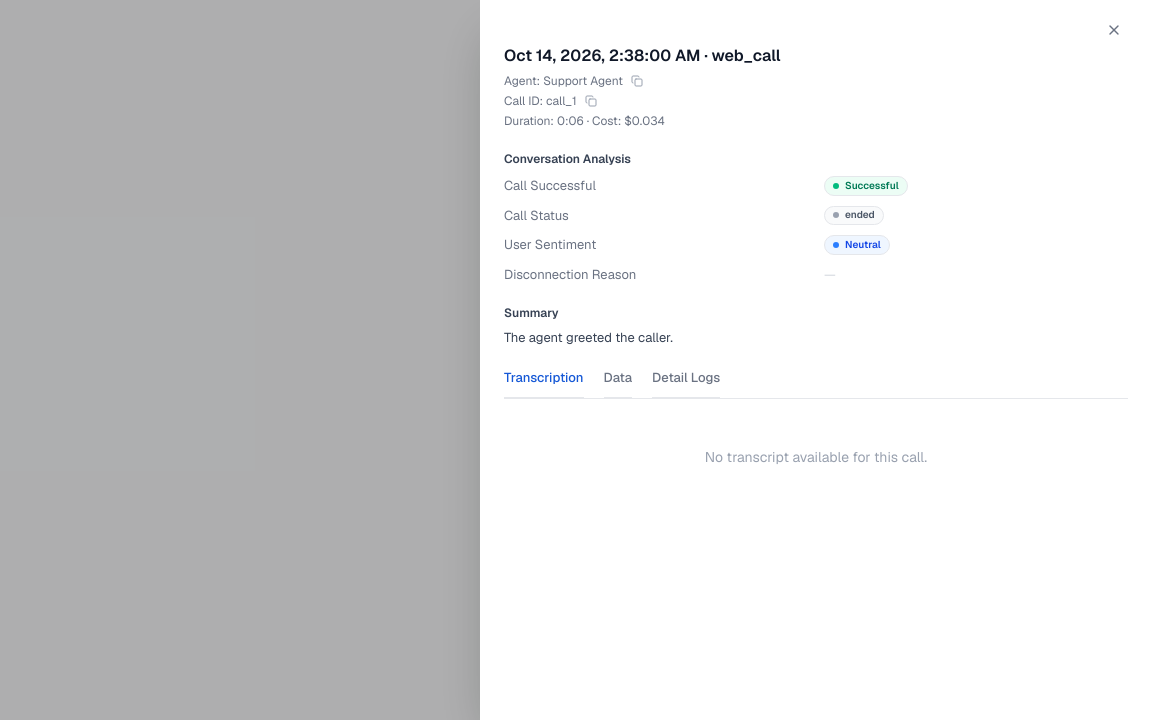
Test case: CallDetailDrawer › shows an empty transcript state and switches to the Data and Detail Logs tabs
The width and height of the screenshot is (1152, 720).
Expected: the text "No transcript available for this call." is shown, [705,448,927,466]
Step 1. Click the button "Data" → (618, 383), box [604,368,632,399]
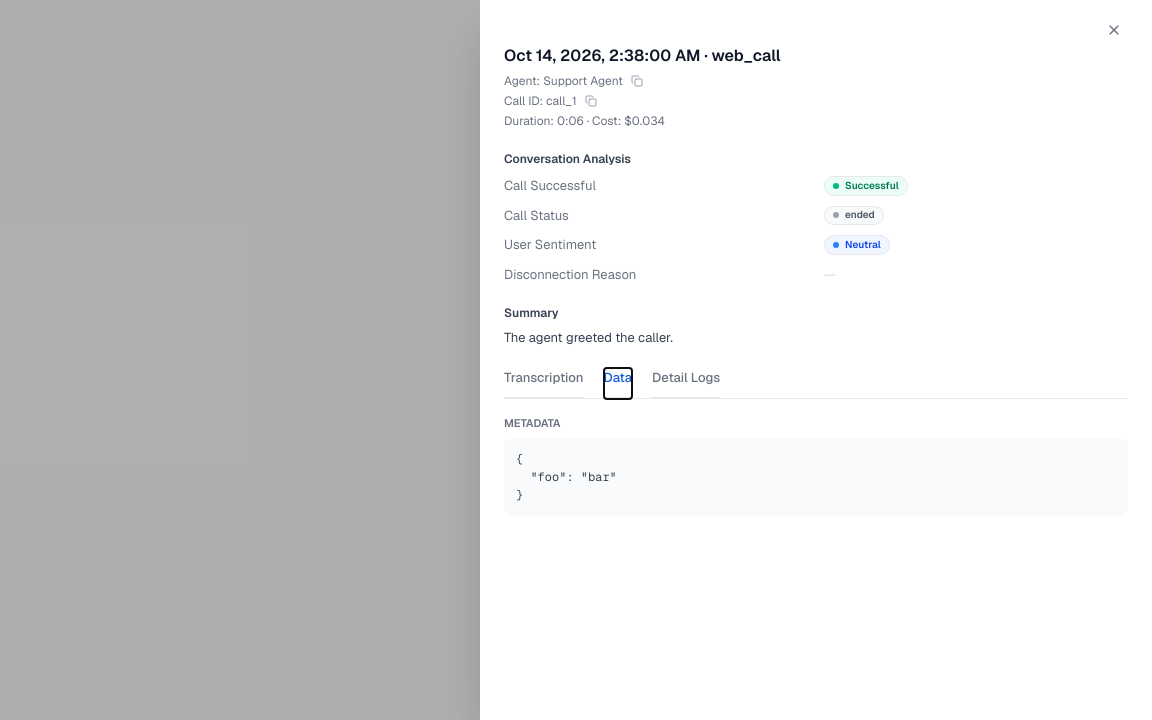
Expected: the text "{ \"foo\": \"bar\" }" is shown, [504,438,1128,516]
Step 2. Click the button "Detail Logs" → (686, 383), box [652,368,720,399]
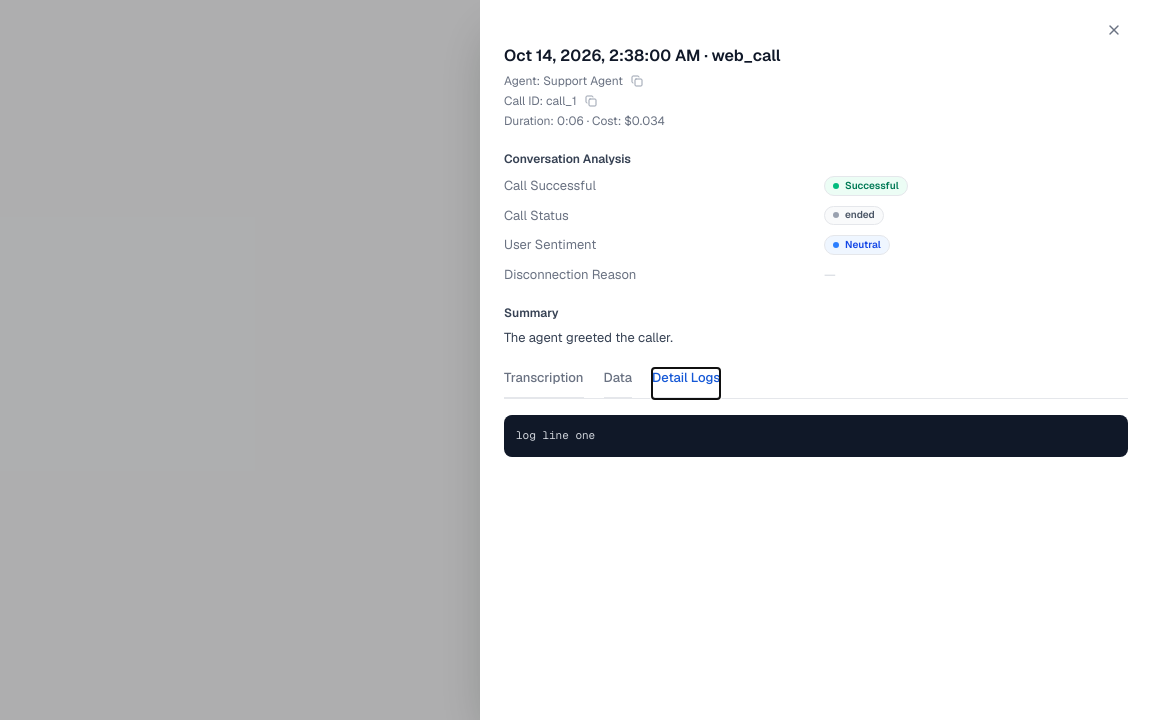
Expected: the text "log line one" is shown, [516,428,595,442]
